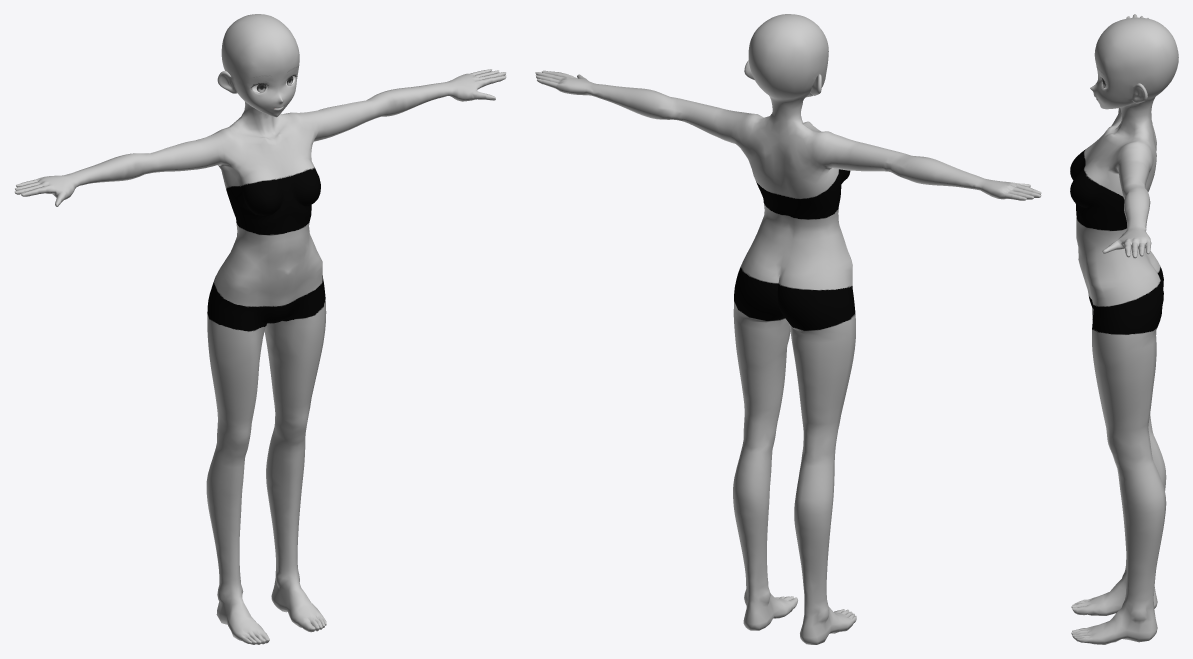
The model's file is body.glb.
3 views of the same model, side by side, from view 1: azimuth 30°, elevation 25°; view 2: azimuth 150°, elevation 25°; view 3: azimuth 270°, elevation 25° (orthographic). The views are drawn at different scales.
Visible parts, largest first — view 1: Body.001, Face.002; view 2: Body.001, Face.002; view 3: Body.001, Face.002.
Part boxes in pixels (bbox=[...]): Body.001: bbox=[14, 14, 506, 644]; Face.002: bbox=[217, 26, 299, 117]; Body.001: bbox=[535, 14, 1041, 644]; Face.002: bbox=[744, 14, 828, 97]; Body.001: bbox=[1070, 14, 1178, 644]; Face.002: bbox=[1090, 20, 1147, 109].
Bounding box in the file's own units: 1.27 × 1.48 × 0.2413.
8 materials, 8 textured.
